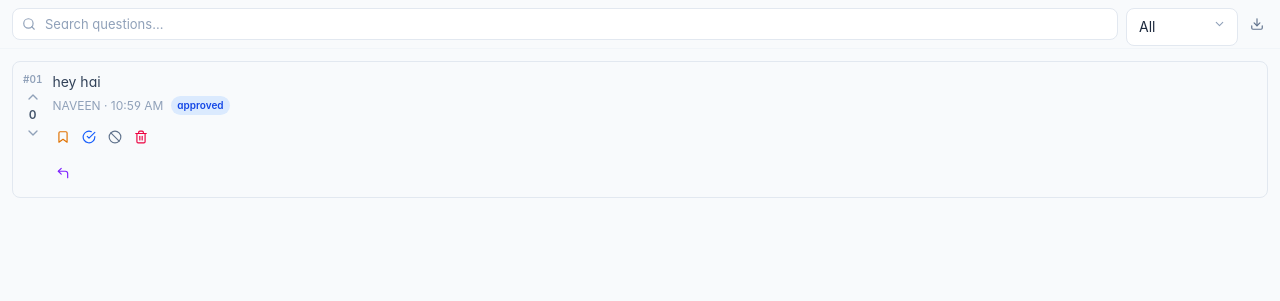
Test case: the Answer action › opens a text box under that question when clicked
Click the button named "answer" at (63, 173), box [52,159,74,187]
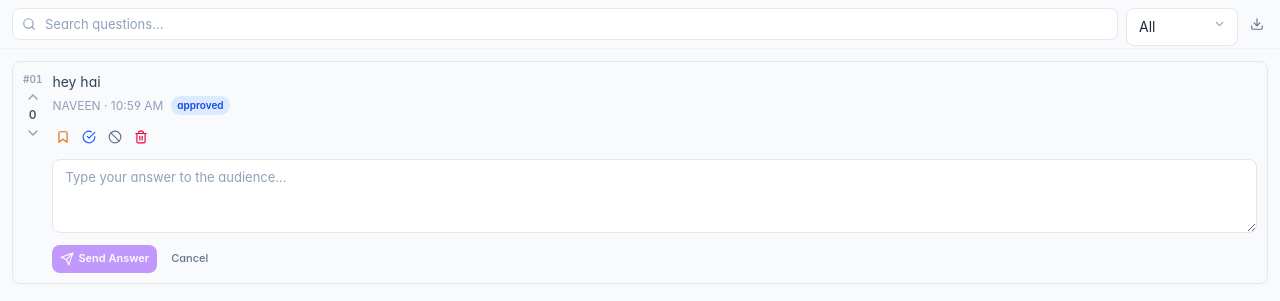
expect the text box named "answer the question" is shown: met, box [52,159,1257,233]
expect the button "Send Answer" is shown: met, box [52,245,157,273]
